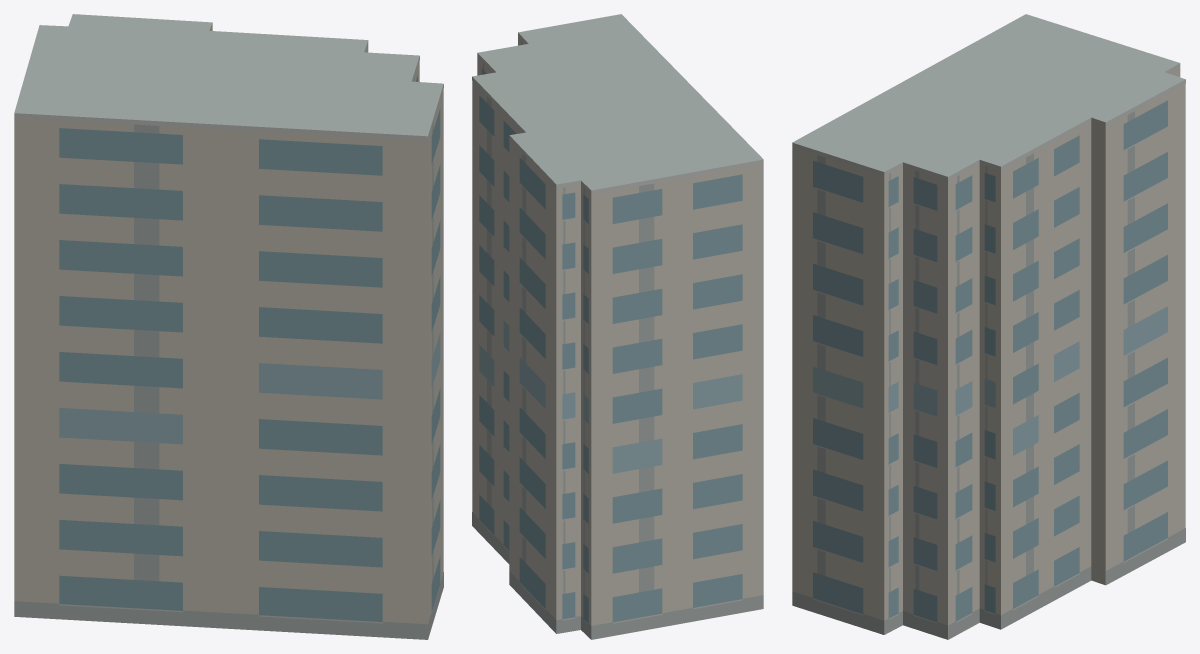
The model's file is survey-upis-32640612.glb.
3 renders of one model, left to right at view 1: azimuth 30°, elevation 25°; view 2: azimuth 150°, elevation 25°; view 3: azimuth 270°, elevation 25°, orthographic. The views are drawn at different scales.
Visible parts, largest first — view 1: survey-upis-32640612.tmp; view 2: survey-upis-32640612.tmp; view 3: survey-upis-32640612.tmp.
Boxes of the visible parts, bbox=[...] form: survey-upis-32640612.tmp: bbox=[14, 14, 443, 639]; survey-upis-32640612.tmp: bbox=[472, 14, 763, 639]; survey-upis-32640612.tmp: bbox=[792, 14, 1185, 639].
Size of the model in its own units: 19.71 by 26.1 by 20.12.
